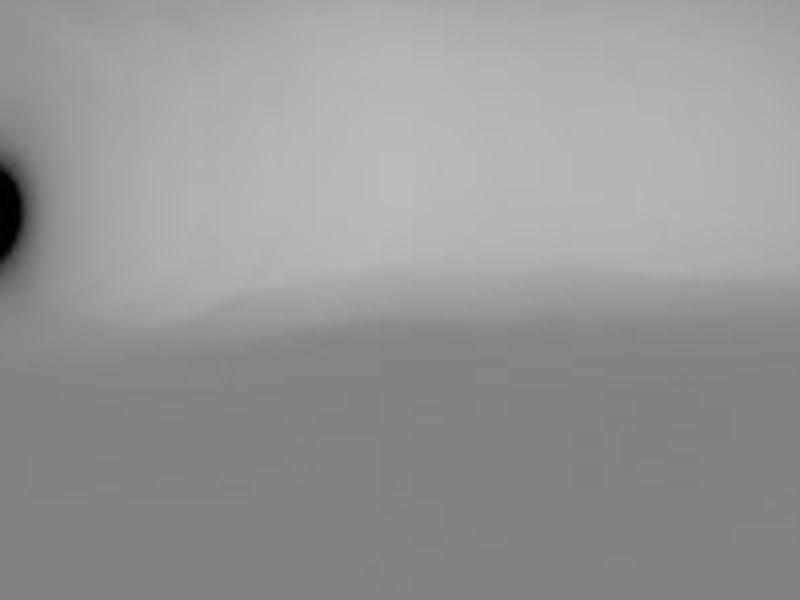defect: (1, 161, 29, 279)
